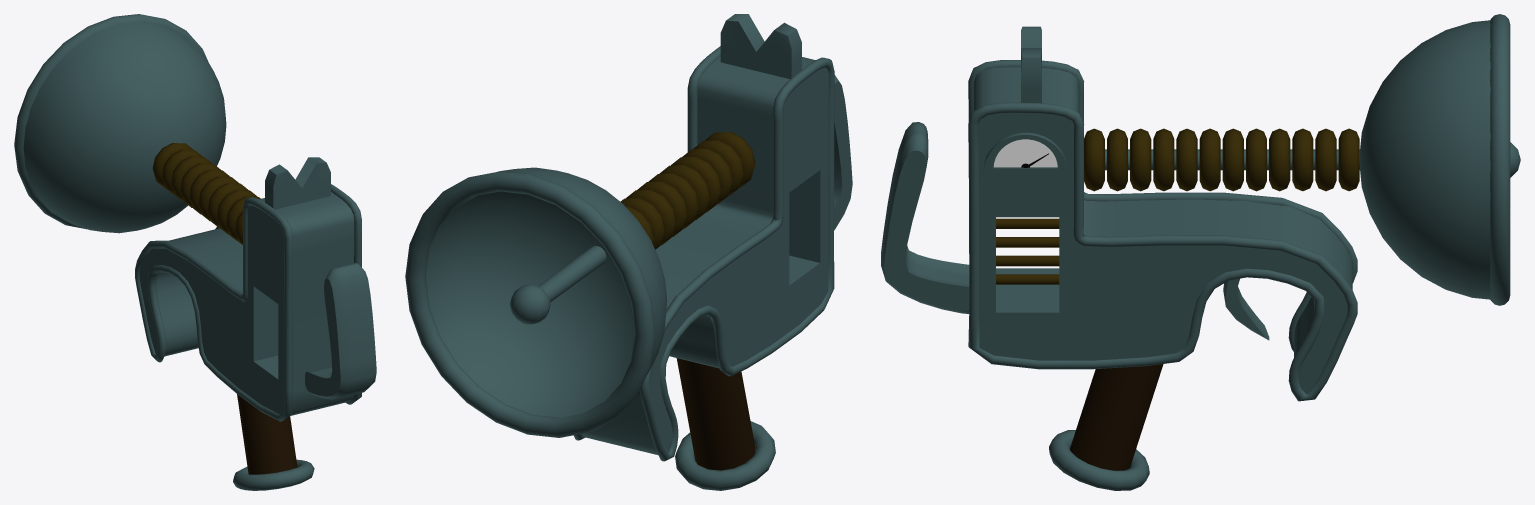
Rendered from ArmaC.FBX.
The picture shows the model from 3 angles, left to right: view 1: azimuth 30°, elevation 25°; view 2: azimuth 150°, elevation 25°; view 3: azimuth 270°, elevation 25°; orthographic projection. The views are drawn at different scales.
Parts seen in each view (by area): view 1: Sphere001, Loft001, Loft002, Loft005, Torus001, Cylinder007, Box001, Torus014, Loft004, Torus004, Torus007, Torus003 (+6 smaller); view 2: Sphere001, Loft001, Torus001, Loft005, Cylinder007, Box001, Torus014, Loft002, Cylinder001, Sphere002, Loft004, Torus008 (+8 smaller); view 3: Loft001, Sphere001, Loft004, Loft002, Cylinder007, Torus001, Loft005, Torus014, Box001, Cylinder009, Cylinder008, Torus003 (+16 smaller).
Part boxes in pixels (x1,y1,x2,y2): Sphere001: [23, 22, 226, 233]; Loft001: [139, 192, 354, 416]; Loft002: [305, 263, 376, 399]; Loft005: [135, 197, 292, 421]; Torus001: [14, 14, 207, 229]; Cylinder007: [237, 394, 297, 474]; Box001: [265, 157, 330, 209]; Torus014: [233, 459, 314, 490]; Loft004: [215, 184, 361, 404]; Torus004: [171, 156, 211, 201]; Torus007: [198, 176, 239, 221]; Torus003: [162, 149, 202, 194]; Sphere001: [425, 167, 667, 417]; Loft001: [582, 56, 828, 454]; Torus001: [405, 171, 655, 437]; Loft005: [639, 57, 834, 461]; Cylinder007: [676, 358, 755, 470]; Box001: [720, 14, 801, 78]; Torus014: [675, 421, 775, 490]; Loft002: [834, 75, 852, 230]; Cylinder001: [538, 246, 606, 302]; Sphere002: [510, 284, 550, 324]; Loft004: [573, 46, 720, 440]; Torus008: [648, 173, 698, 228]; Loft001: [973, 67, 1352, 394]; Sphere001: [1360, 20, 1490, 299]; Loft004: [968, 102, 1357, 401]; Loft002: [881, 122, 969, 313]; Cylinder007: [1070, 364, 1163, 470]; Torus001: [1490, 14, 1510, 305]; Loft005: [968, 60, 1357, 351]; Torus014: [1049, 430, 1149, 490]; Box001: [1021, 26, 1041, 103]; Cylinder009: [993, 139, 1057, 167]; Cylinder008: [983, 132, 1067, 172]; Torus003: [1315, 128, 1336, 191].
Size of the model in its own units: 27.84 by 47.49 by 60.78.
